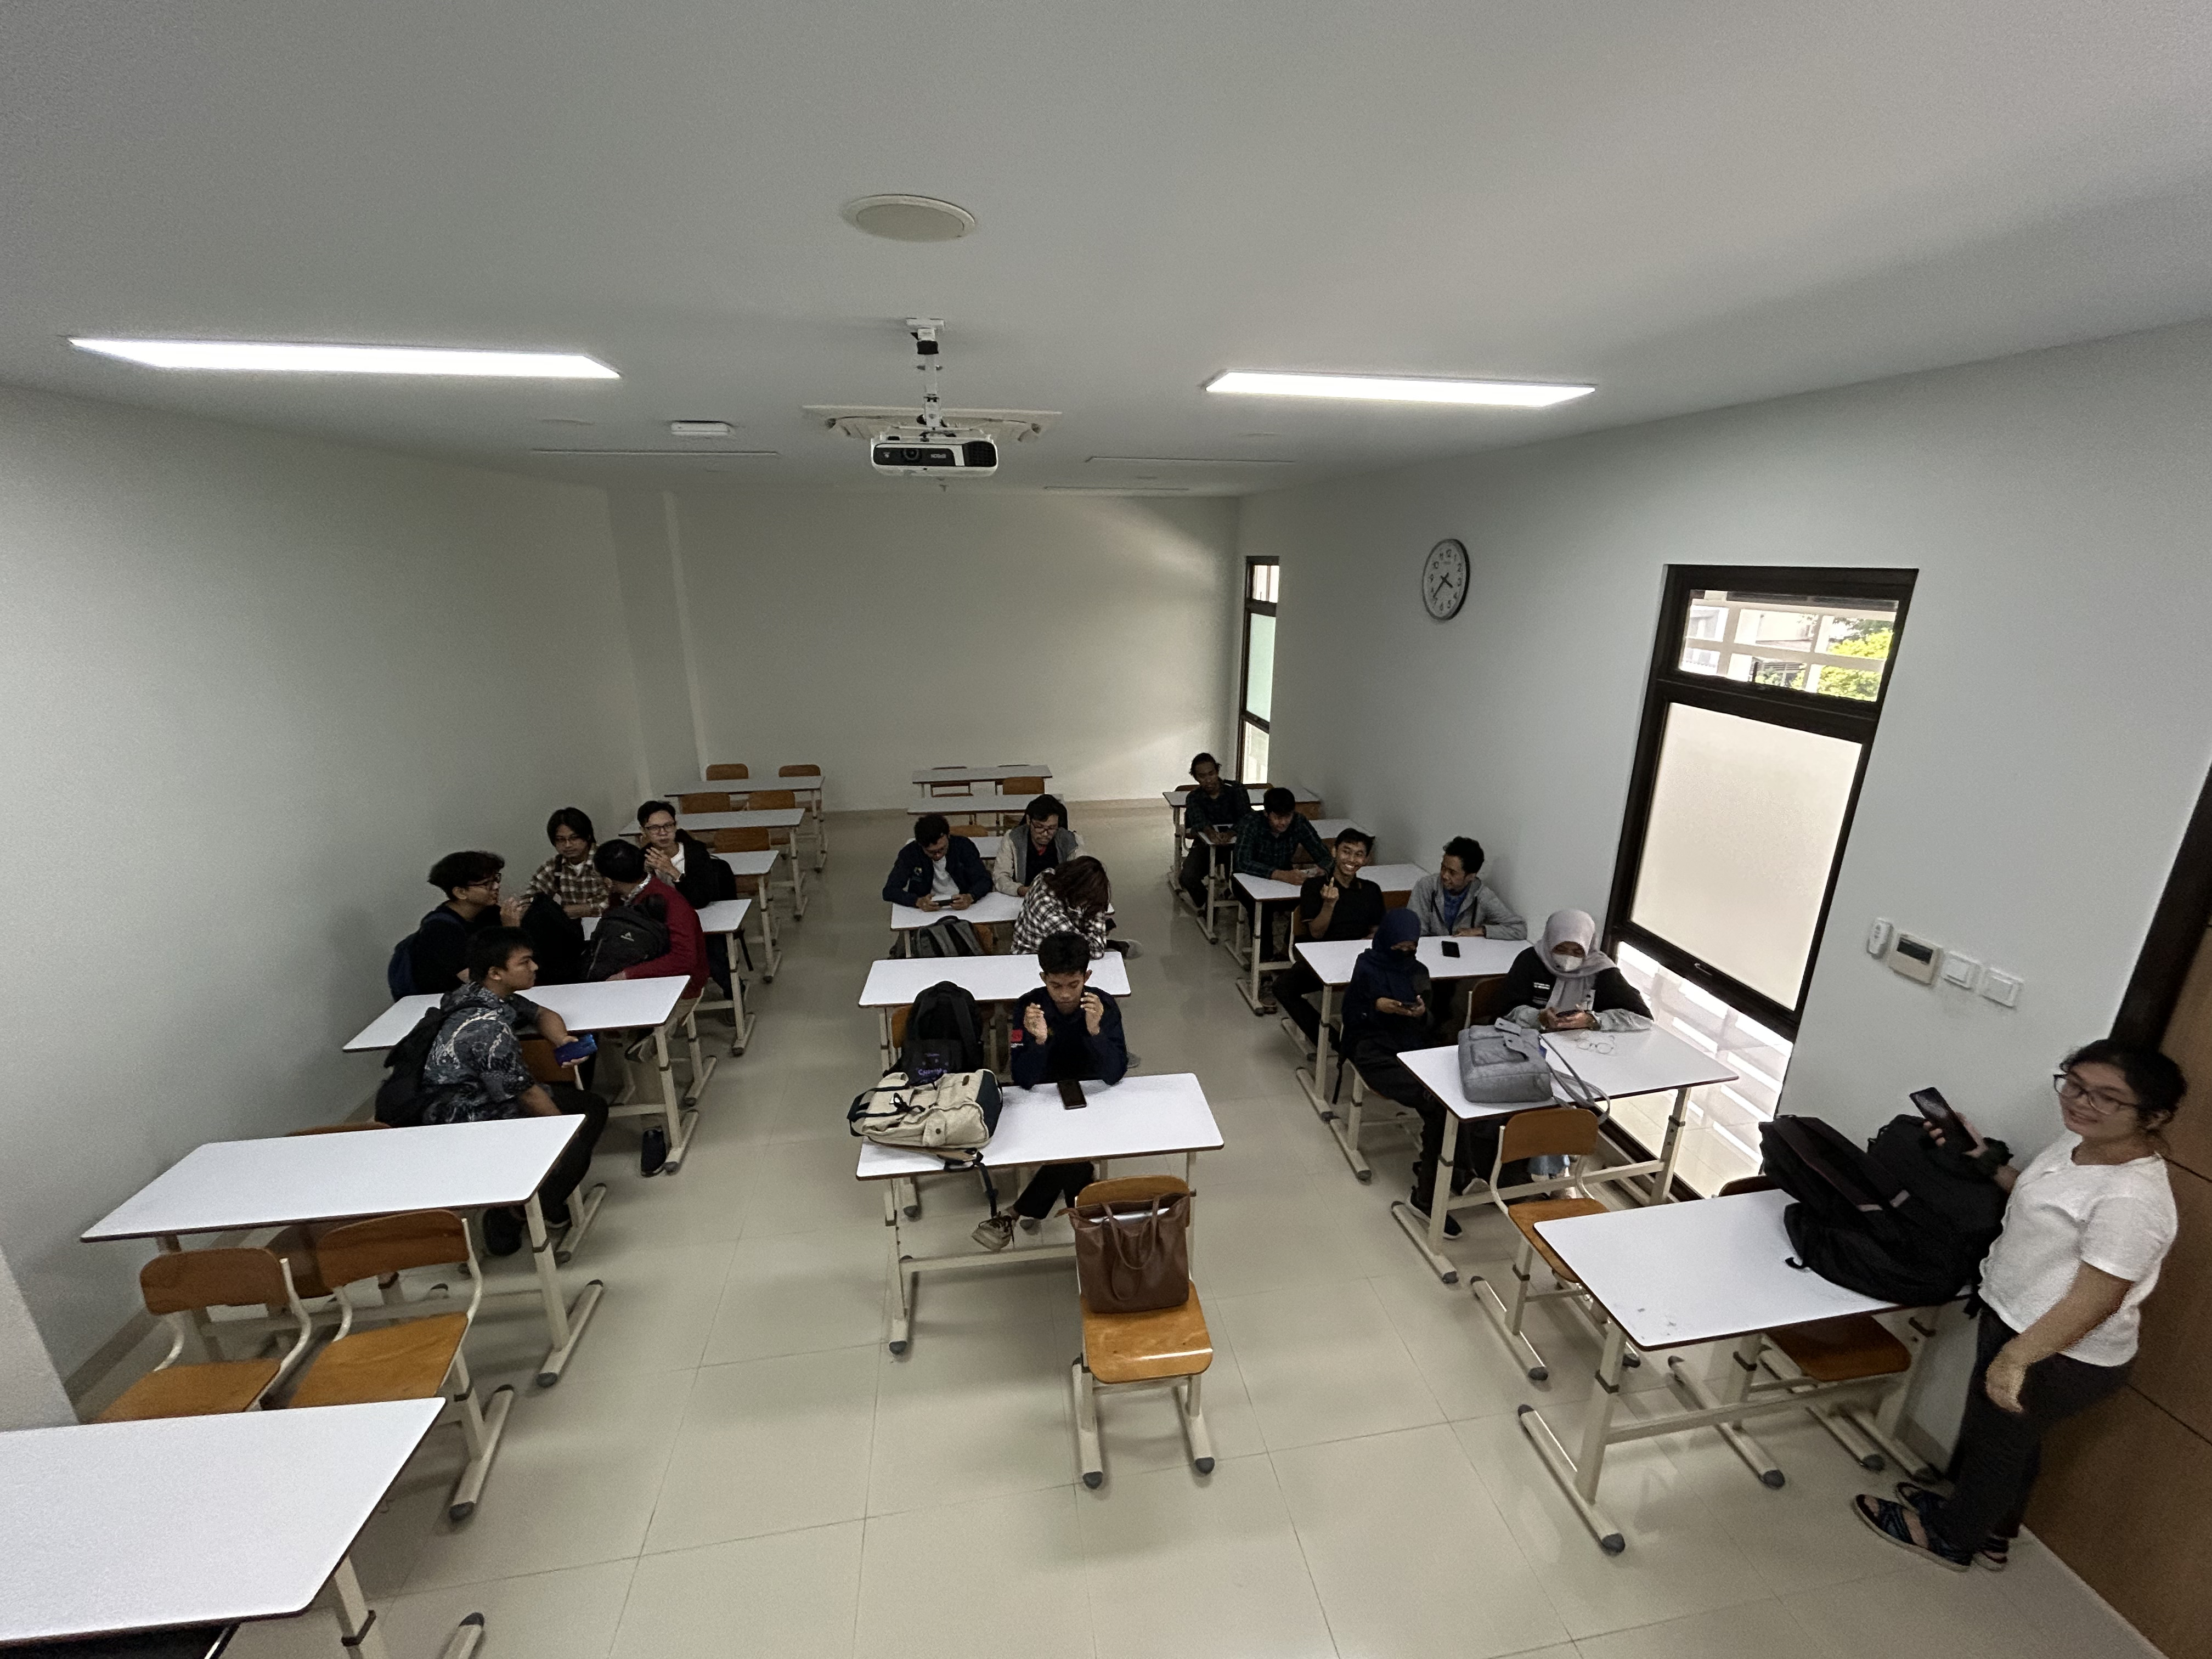person: (1949, 1039, 2198, 1594), (431, 939, 566, 1126), (1017, 941, 1134, 1103), (590, 847, 702, 995), (1518, 907, 1631, 1049), (1001, 853, 1147, 939), (877, 814, 991, 919), (1413, 831, 1516, 936), (1370, 907, 1423, 1067), (996, 788, 1108, 852), (410, 843, 505, 919), (1312, 833, 1378, 939), (1245, 789, 1311, 879), (1181, 752, 1234, 860), (620, 786, 692, 853), (537, 795, 592, 867)
